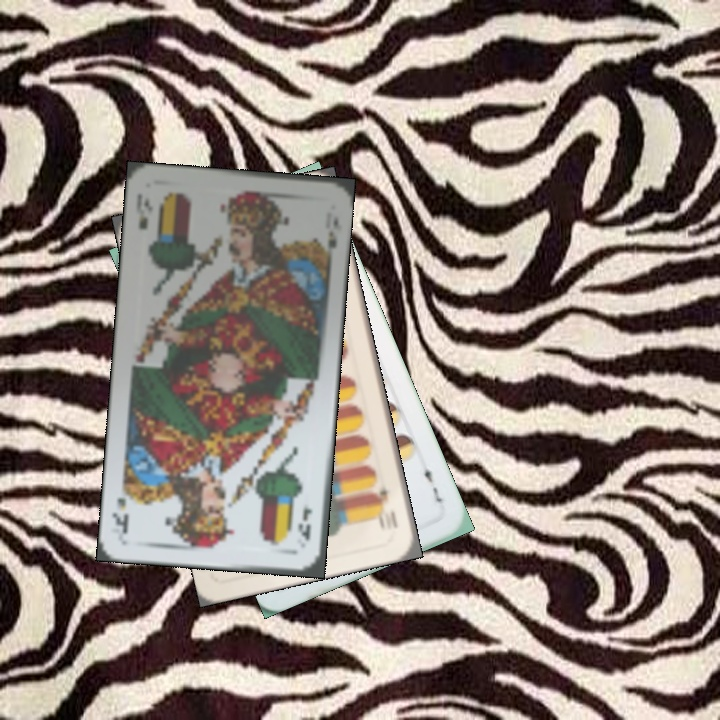E10: (374, 485, 400, 531)
E7: (420, 458, 445, 505)
EK: (132, 189, 155, 233), (294, 503, 315, 544)
